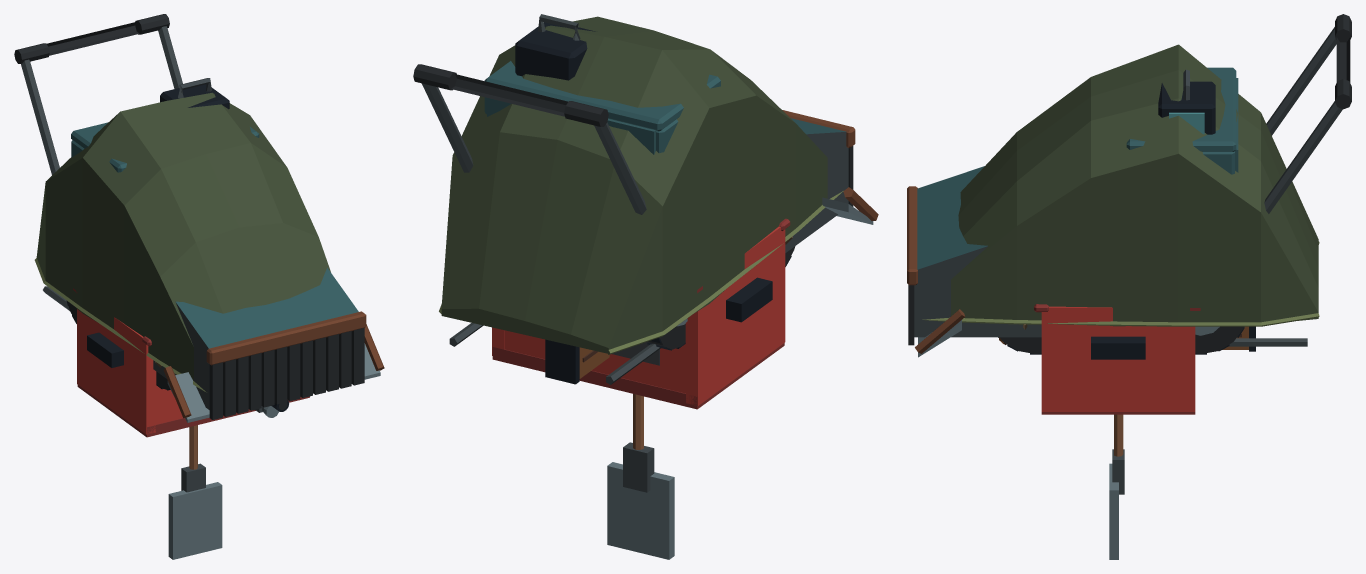
Rendered from props.glb.
The picture shows the model from 3 angles, left to right: view 1: azimuth 30°, elevation 25°; view 2: azimuth 150°, elevation 25°; view 3: azimuth 270°, elevation 25°; orthographic projection. The views are drawn at different scales.
Parts seen in each view (by area): view 1: HarvesterCoverFabric, BoxEnd, VacuumHoodRoof, ShovelBlade, VacuumFrontLip, VacuumHoodSide, HarvesterPushHandle, HarvesterHandleBar, BoxBottom, IntakeWingPanel_R, BoxHandle, SuctionBrush_6 (+20 smaller); view 2: HarvesterCoverFabric, BoxEnd, ShovelBlade, HarvesterMotorRoof, BoxSide, BatteryShell, BoxBottom, VacuumHoodSide, HarvesterHandleBar, BoxHandle, Gun_RubberButtPad, ShovelSocket (+10 smaller); view 3: HarvesterCoverFabric, BoxEnd.001, VacuumHoodRoof, VacuumHoodSide.001, HarvesterMotorRoof, HarvesterCoverHem.001, BatteryShell, HarvesterPushHandle.001, HarvesterPushHandle, BoxHandle.001, VacuumFrontLip, HarvesterTire.002 (+4 smaller).
Part boxes in pixels (bbox=[...]): HarvesterCoverFabric: bbox=[36, 92, 330, 380]; BoxEnd: bbox=[77, 309, 155, 434]; VacuumHoodRoof: bbox=[176, 267, 358, 348]; ShovelBlade: bbox=[168, 482, 222, 559]; VacuumFrontLip: bbox=[206, 311, 366, 365]; VacuumHoodSide: bbox=[153, 303, 209, 409]; HarvesterPushHandle: bbox=[21, 59, 59, 174]; HarvesterHandleBar: bbox=[46, 22, 139, 55]; BoxBottom: bbox=[77, 385, 309, 437]; IntakeWingPanel_R: bbox=[167, 372, 209, 422]; BoxHandle: bbox=[87, 332, 123, 367]; SuctionBrush_6: bbox=[287, 343, 300, 401]; HarvesterCoverFabric: bbox=[441, 16, 827, 353]; BoxEnd: bbox=[686, 227, 785, 405]; ShovelBlade: bbox=[607, 462, 674, 559]; HarvesterMotorRoof: bbox=[484, 61, 720, 131]; BoxSide: bbox=[504, 323, 685, 393]; BatteryShell: bbox=[515, 22, 595, 80]; BoxBottom: bbox=[492, 343, 784, 409]; VacuumHoodSide: bbox=[785, 132, 848, 252]; HarvesterHandleBar: bbox=[451, 74, 567, 116]; BoxHandle: bbox=[726, 277, 772, 322]; Gun_RubberButtPad: bbox=[545, 339, 579, 384]; ShovelSocket: bbox=[623, 442, 654, 492]; HarvesterCoverFabric: bbox=[951, 44, 1318, 326]; BoxEnd.001: bbox=[1041, 306, 1195, 411]; VacuumHoodRoof: bbox=[917, 166, 987, 269]; VacuumHoodSide.001: bbox=[914, 246, 1041, 337]; HarvesterMotorRoof: bbox=[1126, 67, 1236, 151]; HarvesterCoverHem.001: bbox=[922, 313, 1319, 326]; BatteryShell: bbox=[1158, 81, 1215, 134]; HarvesterPushHandle.001: bbox=[1264, 101, 1342, 213]; HarvesterPushHandle: bbox=[1266, 27, 1336, 135]; BoxHandle.001: bbox=[1091, 336, 1145, 359]; VacuumFrontLip: bbox=[907, 186, 917, 285]; HarvesterTire.002: bbox=[1195, 326, 1243, 354].
Size of the model in its own units: 0.9344 by 1.98 by 1.62.
